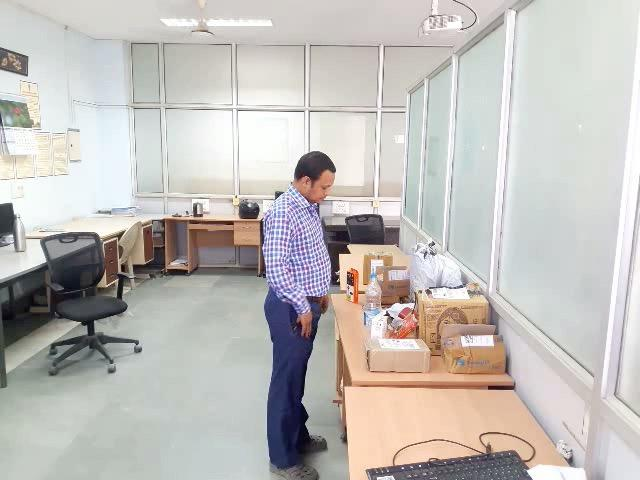Normal: (122, 111, 509, 480)
shoplifting: (259, 284, 348, 355)
